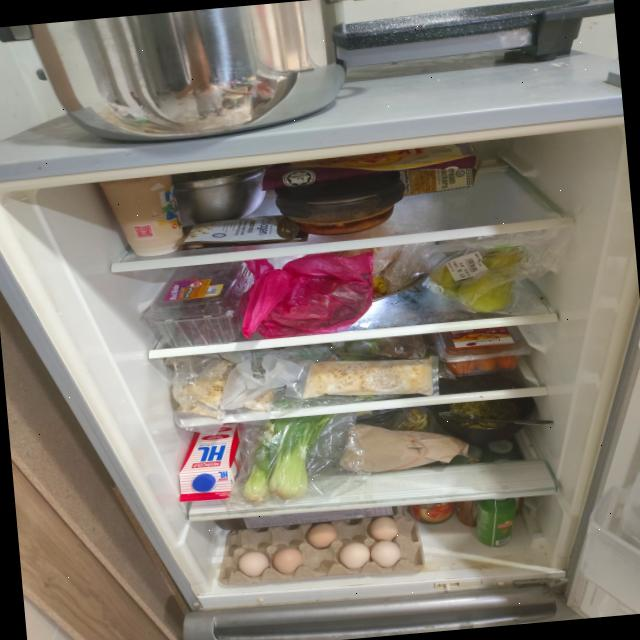apple: (425, 245, 532, 318)
egg: (214, 514, 425, 588)
grape: (172, 294, 244, 347)
pakchoy: (235, 414, 342, 503)
tempeh: (294, 352, 434, 407), (172, 358, 238, 424)
unknown_bag: (235, 248, 378, 340)
